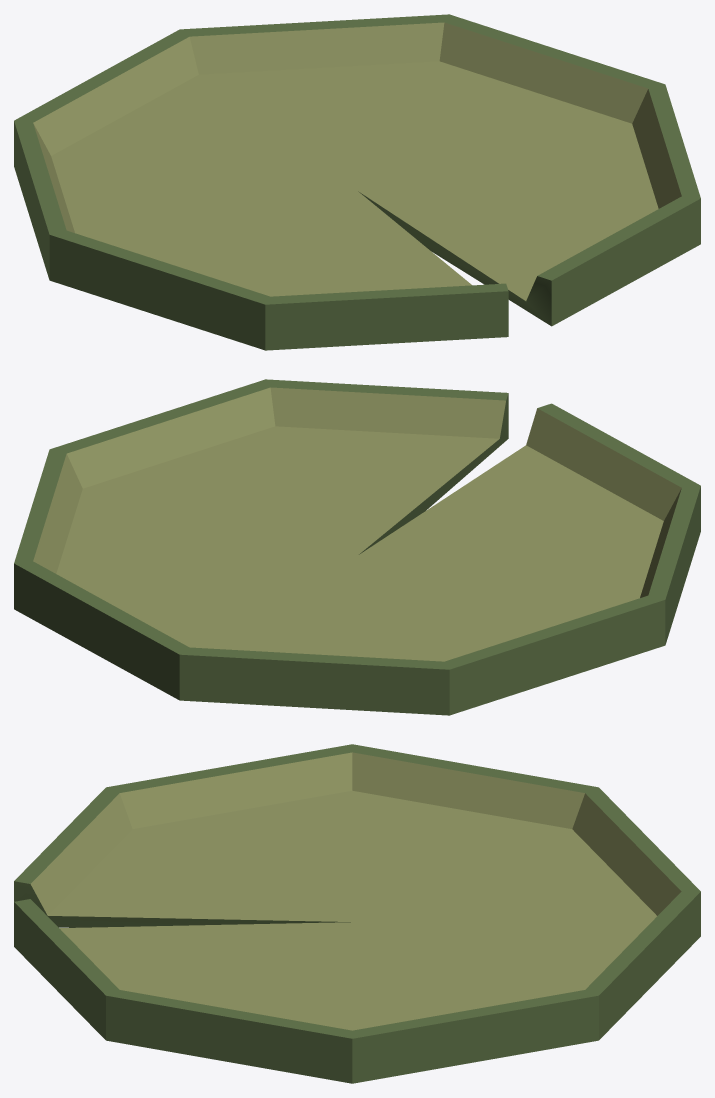
File: SM_River_Floating_Plant_01.fbx
3 renders of one model, top to bottom at view 1: azimuth 30°, elevation 25°; view 2: azimuth 150°, elevation 25°; view 3: azimuth 270°, elevation 25°, orthographic. The views are drawn at different scales.
Parts seen in each view (by area): view 1: River_Floating_Plant_01; view 2: River_Floating_Plant_01; view 3: River_Floating_Plant_01.
Part boxes in pixels (x1,y1,x2,y2): River_Floating_Plant_01: (14,14,700,350); River_Floating_Plant_01: (14,379,700,715); River_Floating_Plant_01: (14,744,700,1083).
Bounding box in the file's own units: 54.64 × 3.89 × 53.85.
